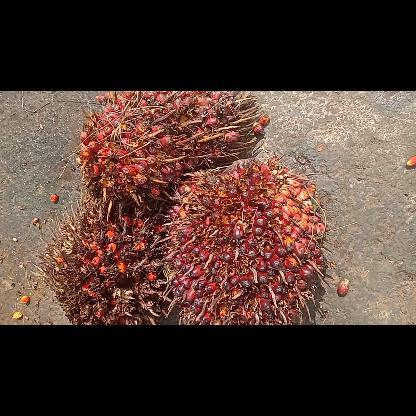TBS masak: (157, 156, 332, 324), (78, 91, 260, 219)
Terlalu masak: (33, 192, 171, 324)
